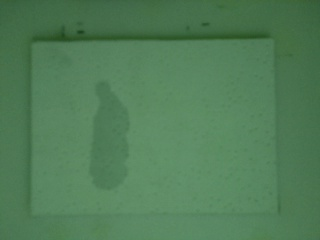Water_detected: (99, 100, 138, 184)
